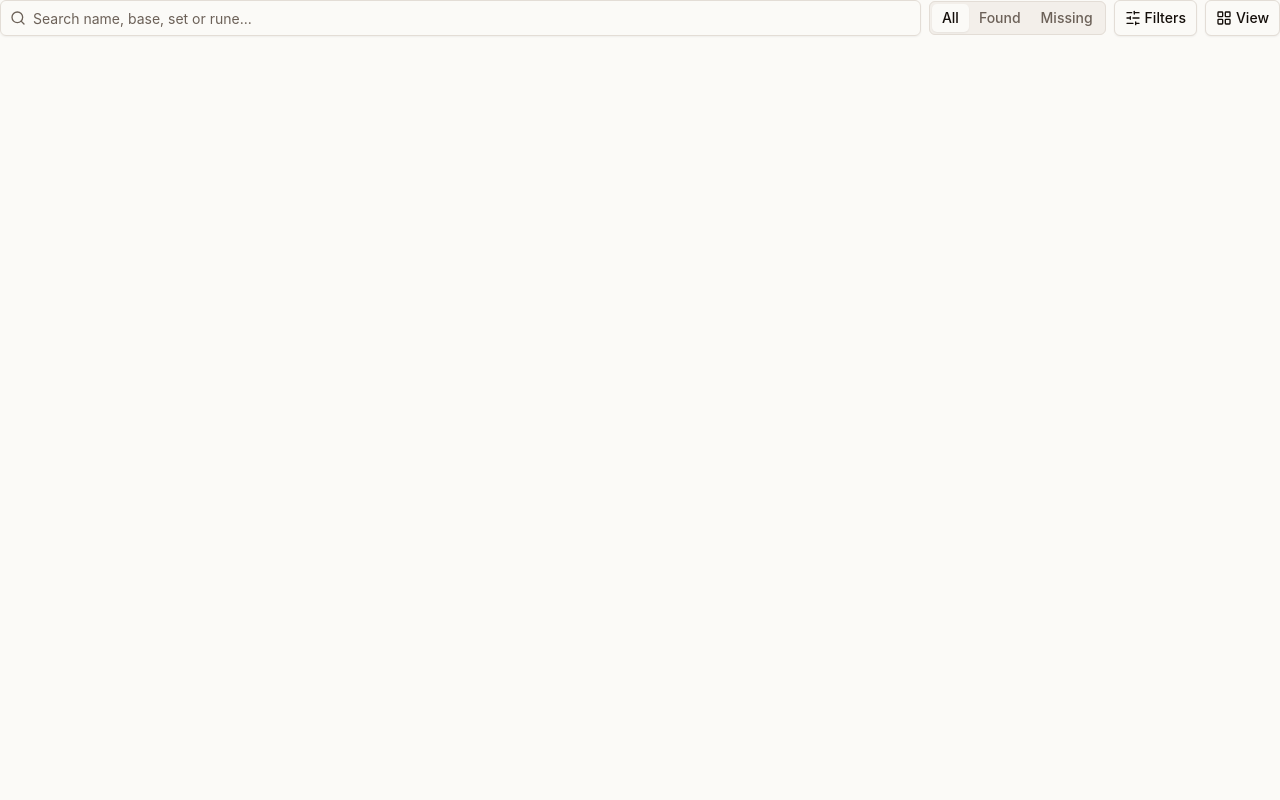
Test case: When AdvancedSearch toolbar is rendered › If user opens the view popover › Then does not offer grouping by ethereal status if ethereal items are not tracked
The image size is (1280, 800).
Click the button "View" at (1242, 18), box [1205,0,1279,36]
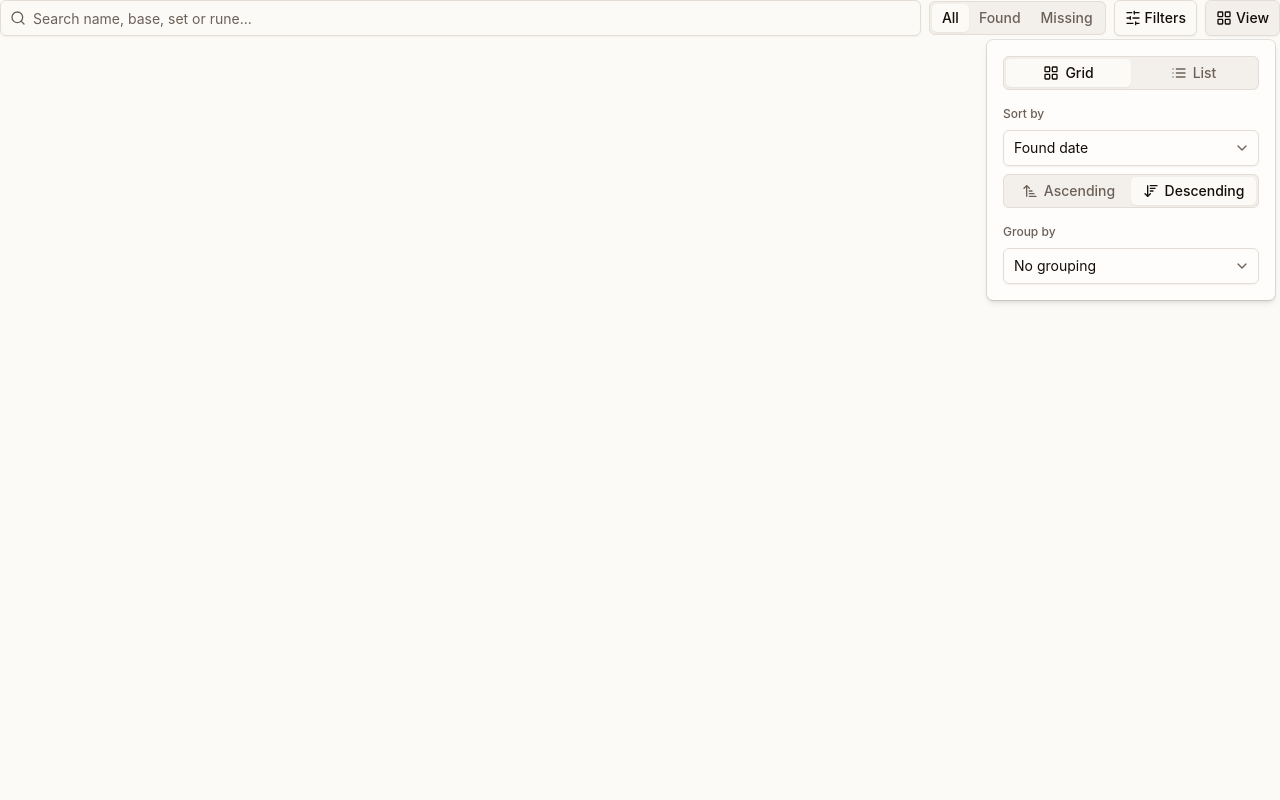
Click the dropdown named "Group by" at (1131, 266), box [1003,248,1259,284]
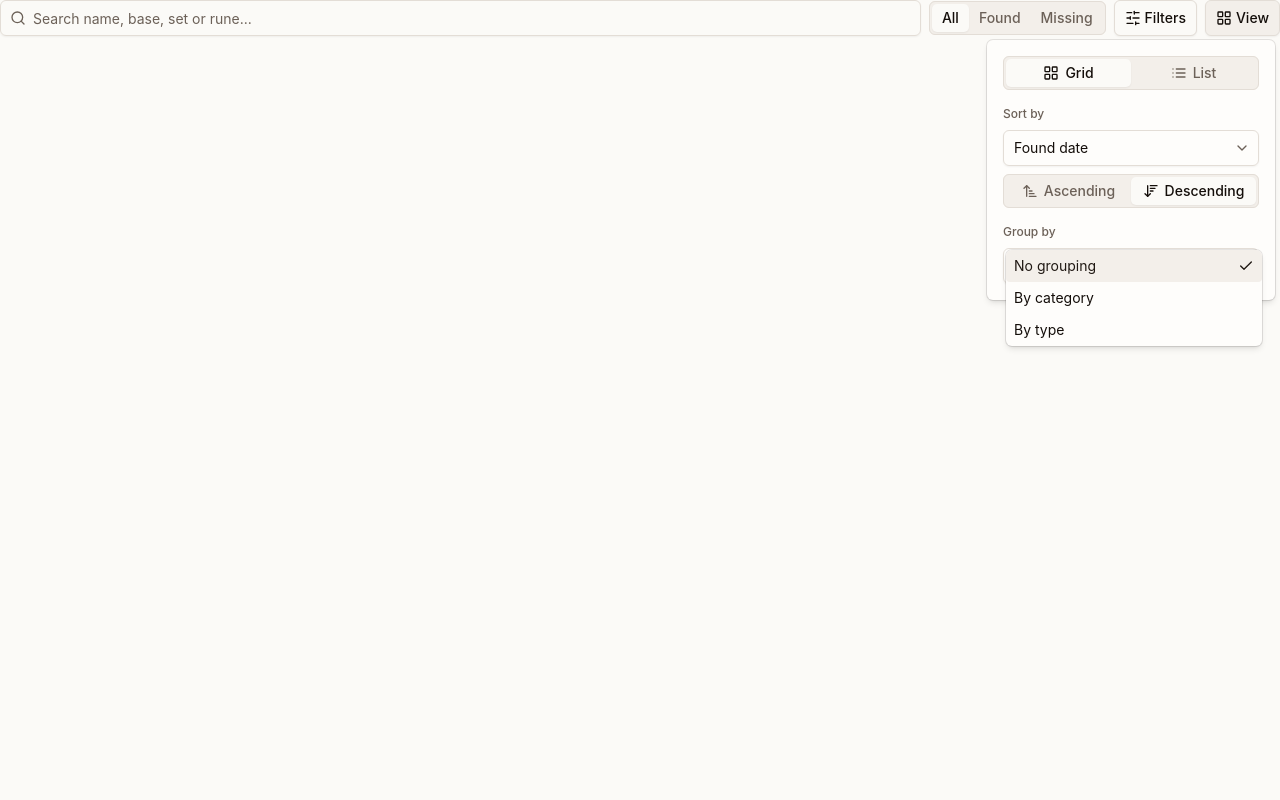
Expected: the option "By type" is shown, [1014,321,1064,338]
